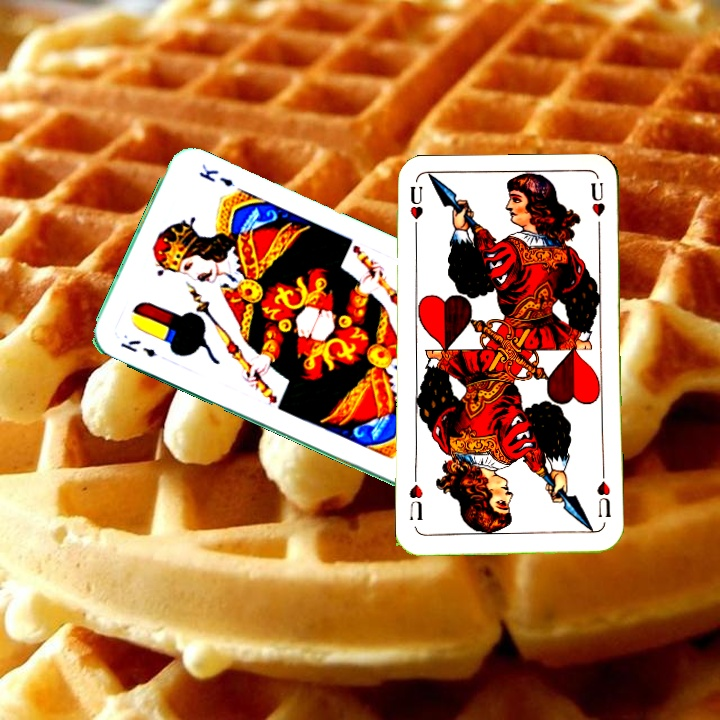EK: (116, 335, 159, 360)
HU: (406, 181, 426, 239), (593, 468, 613, 520)
